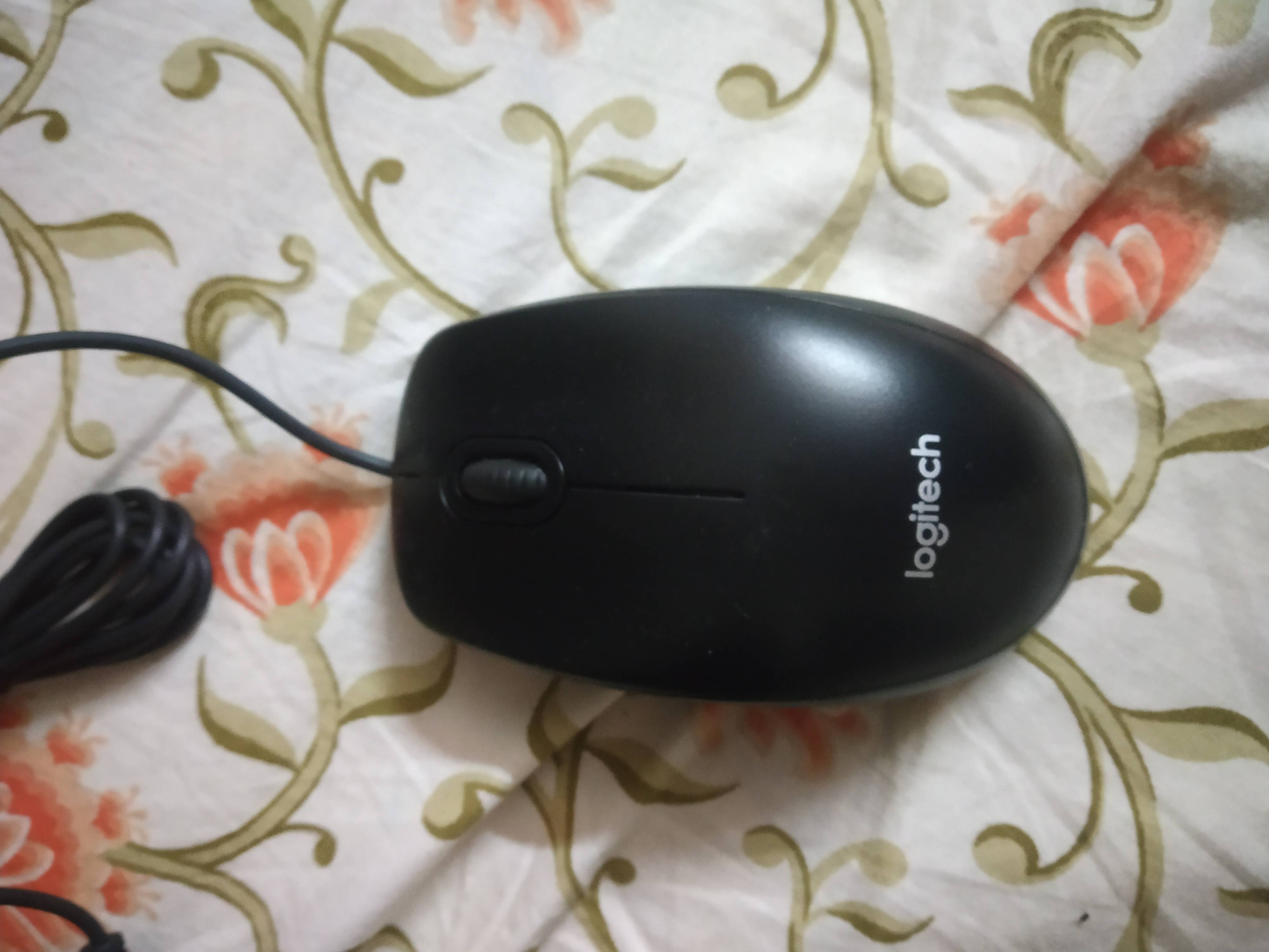Electronics: (370, 258, 1133, 730)
